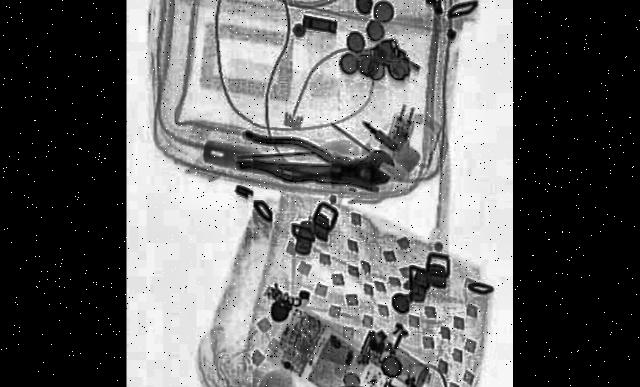Pliers: (239, 122, 392, 200)
Wrench: (294, 144, 396, 189)
